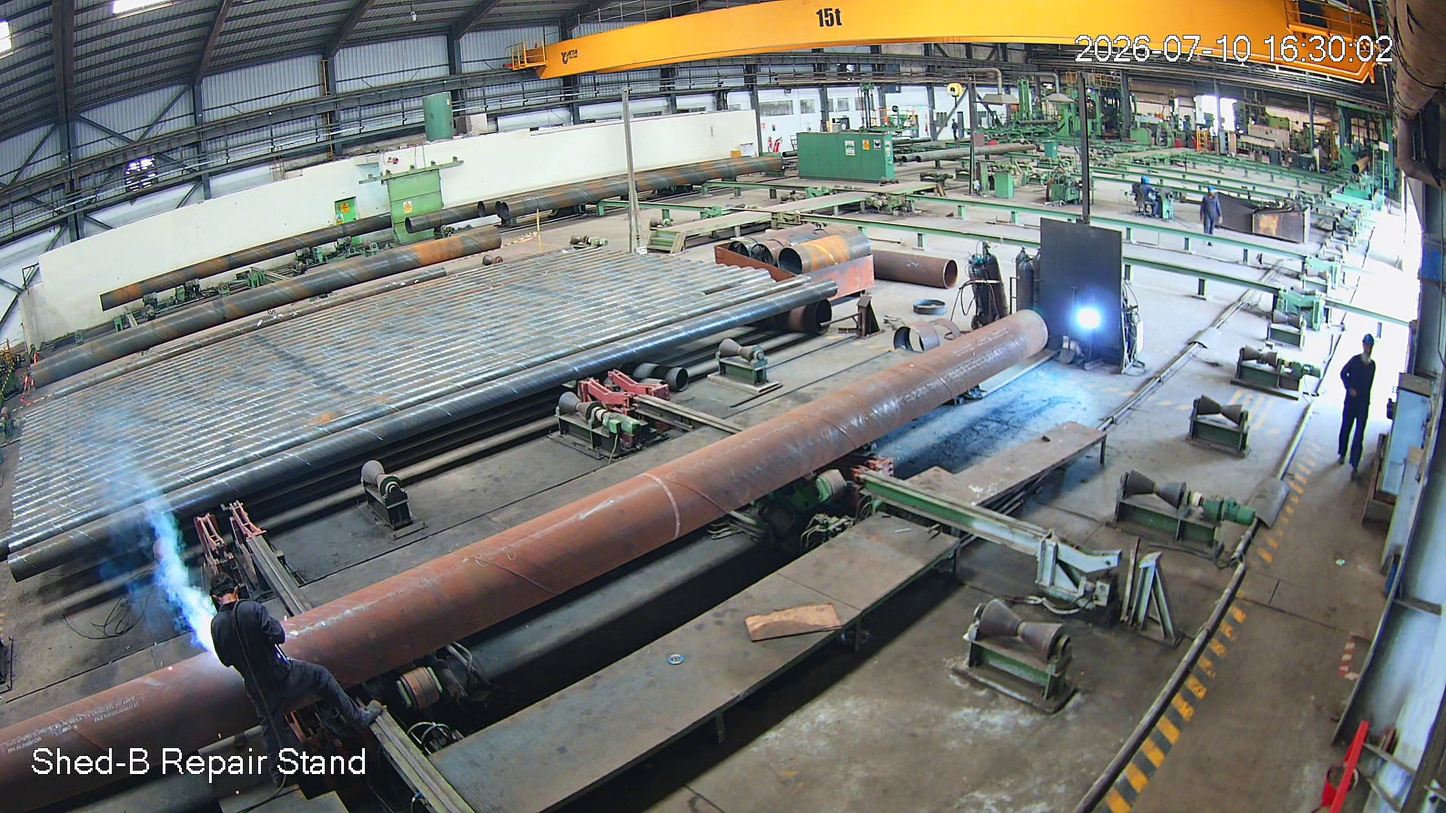Helmet: (1347, 330, 1380, 370)
Person: (200, 568, 391, 782), (1333, 335, 1385, 479)
